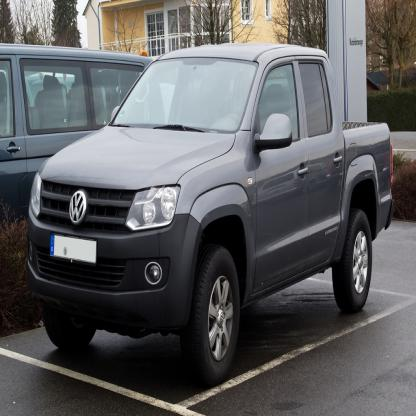Car: (19, 43, 397, 384), (1, 43, 165, 297)
